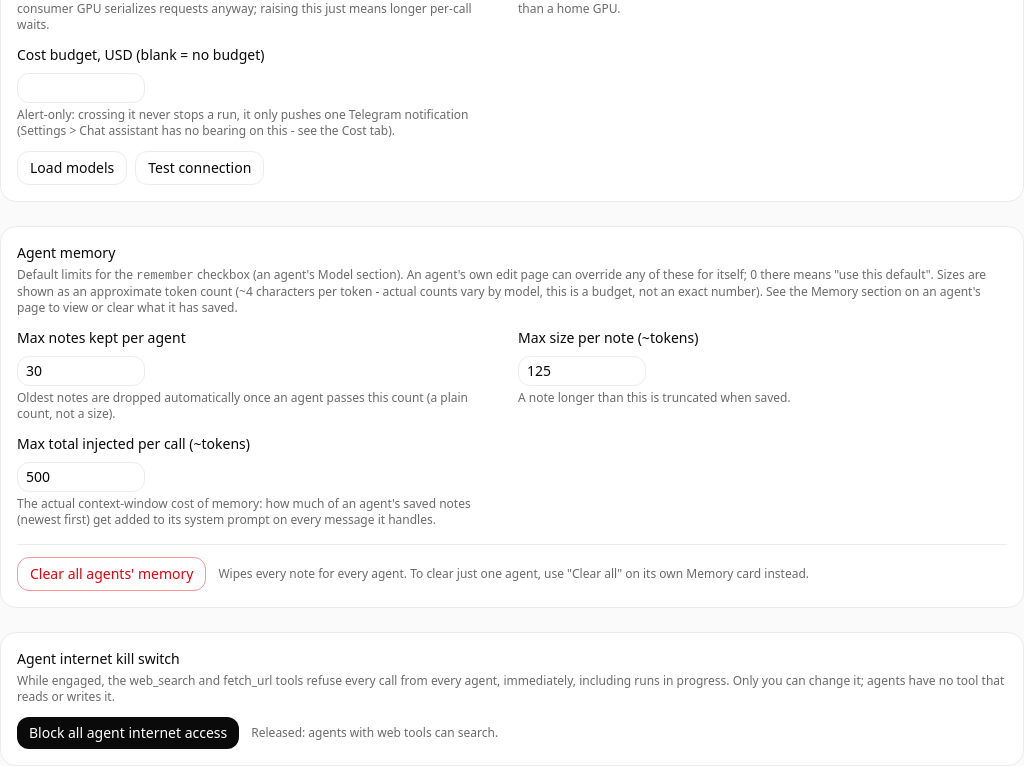
Test: AiConfigPage › clears every agent's memory from the General tab, after confirming
(page scrolled)
Click the button "Clear all agents' memory".
click(112, 574)  # box [17, 557, 206, 591]
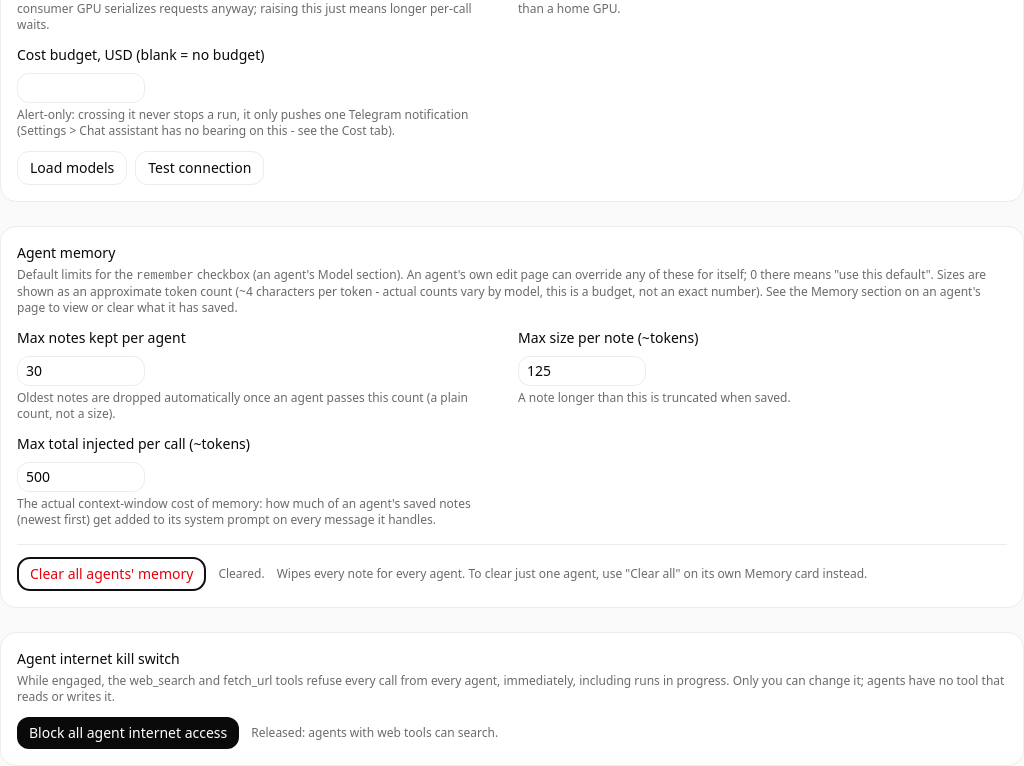
Now the text "Cleared." is shown, box [218, 566, 265, 582]
